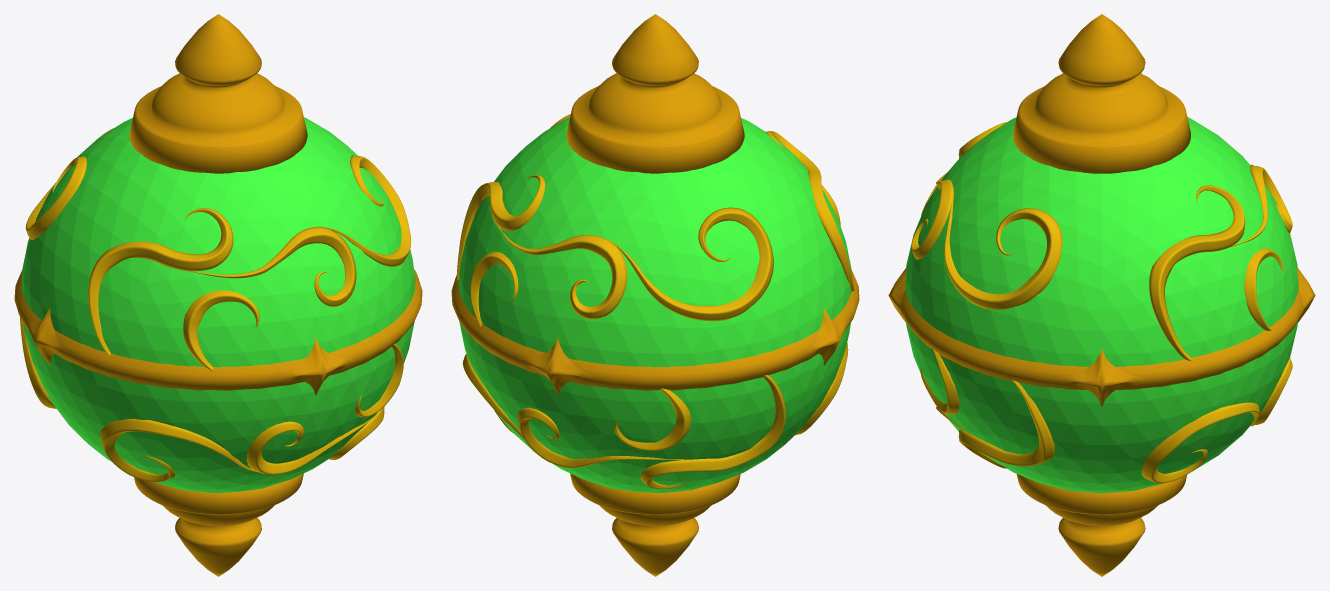
File: megasphere.glb
3 renders of one model, left to right at view 1: azimuth 30°, elevation 25°; view 2: azimuth 150°, elevation 25°; view 3: azimuth 270°, elevation 25°, orthographic.
Parts seen in each view (by area): view 1: Plane; view 2: Plane; view 3: Plane.
Boxes of the visible parts, left/top/right/bottom form: Plane: left=14, top=14, right=422, bottom=576; Plane: left=451, top=14, right=859, bottom=576; Plane: left=888, top=14, right=1315, bottom=576.
Bounding box in the file's own units: 2.16 × 3.14 × 2.16.
